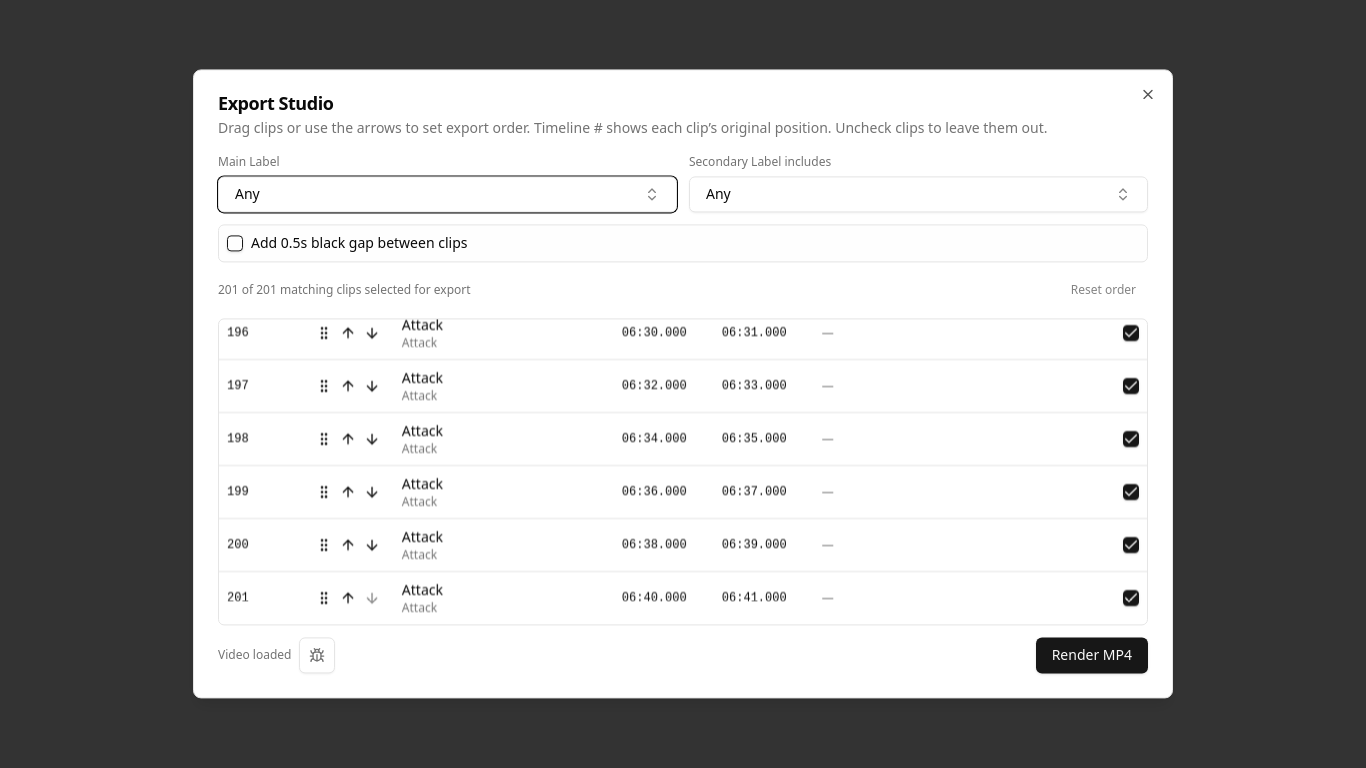
Test case: allows excluding matching clips beyond the first 200 rows
The image size is (1366, 768).
(page scrolled)
Click the checkbox named "Include Attack at 06:40.000 in export" at (1131,598), box [1123,590,1139,606]
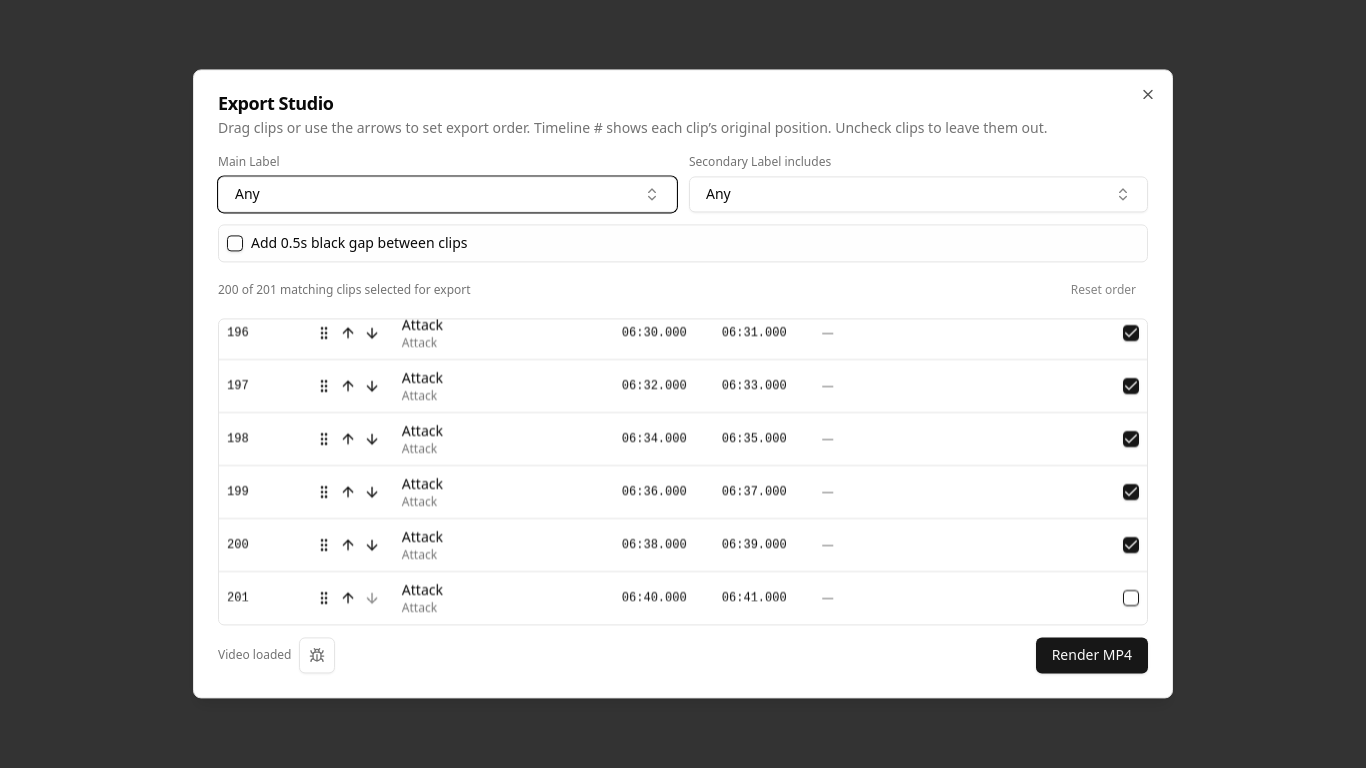
Now the text "200 of 201 matching clips selected for export" is shown, box [218,282,471,298]
